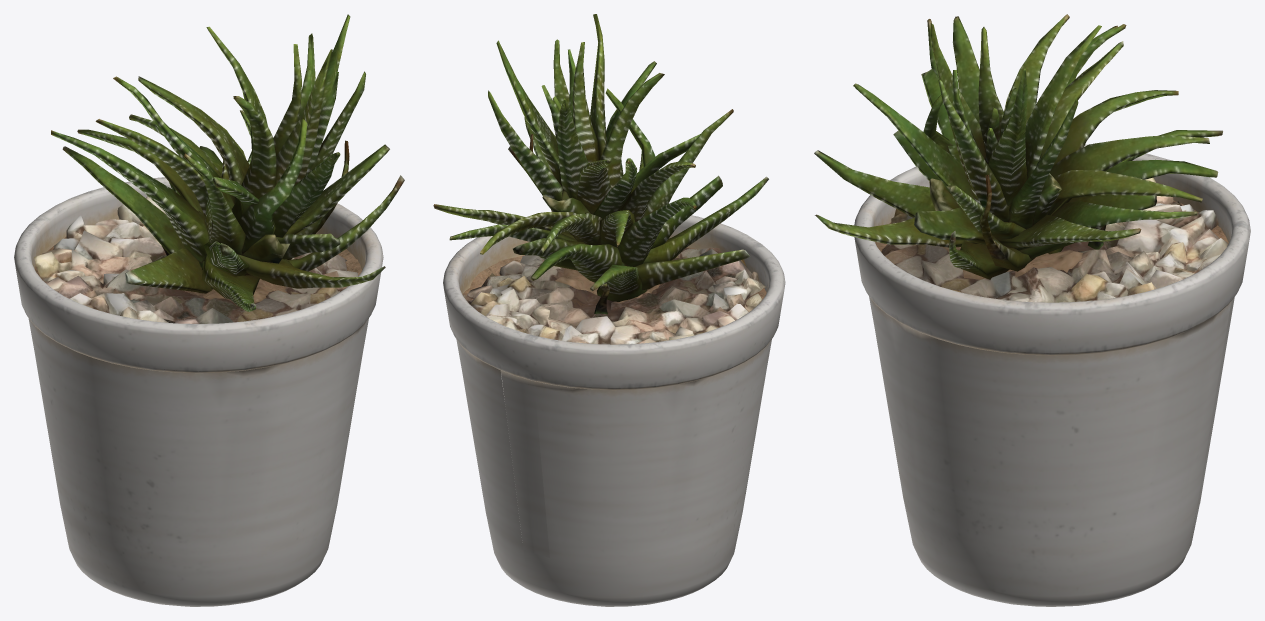
Rendered from potted_plant_04.glb.
3 renders of one model, left to right at view 1: azimuth 30°, elevation 25°; view 2: azimuth 150°, elevation 25°; view 3: azimuth 270°, elevation 25°, orthographic. The views are drawn at different scales.
Visible parts, largest first — view 1: potted_plant_04; view 2: potted_plant_04; view 3: potted_plant_04.
Boxes of the visible parts, x1,y1,x2,y2 form: potted_plant_04: (14,14,404,606); potted_plant_04: (433,14,785,606); potted_plant_04: (814,14,1250,606).
Size of the model in its own units: 0.6 by 0.9547 by 0.6593.
1 material, 1 textured.
